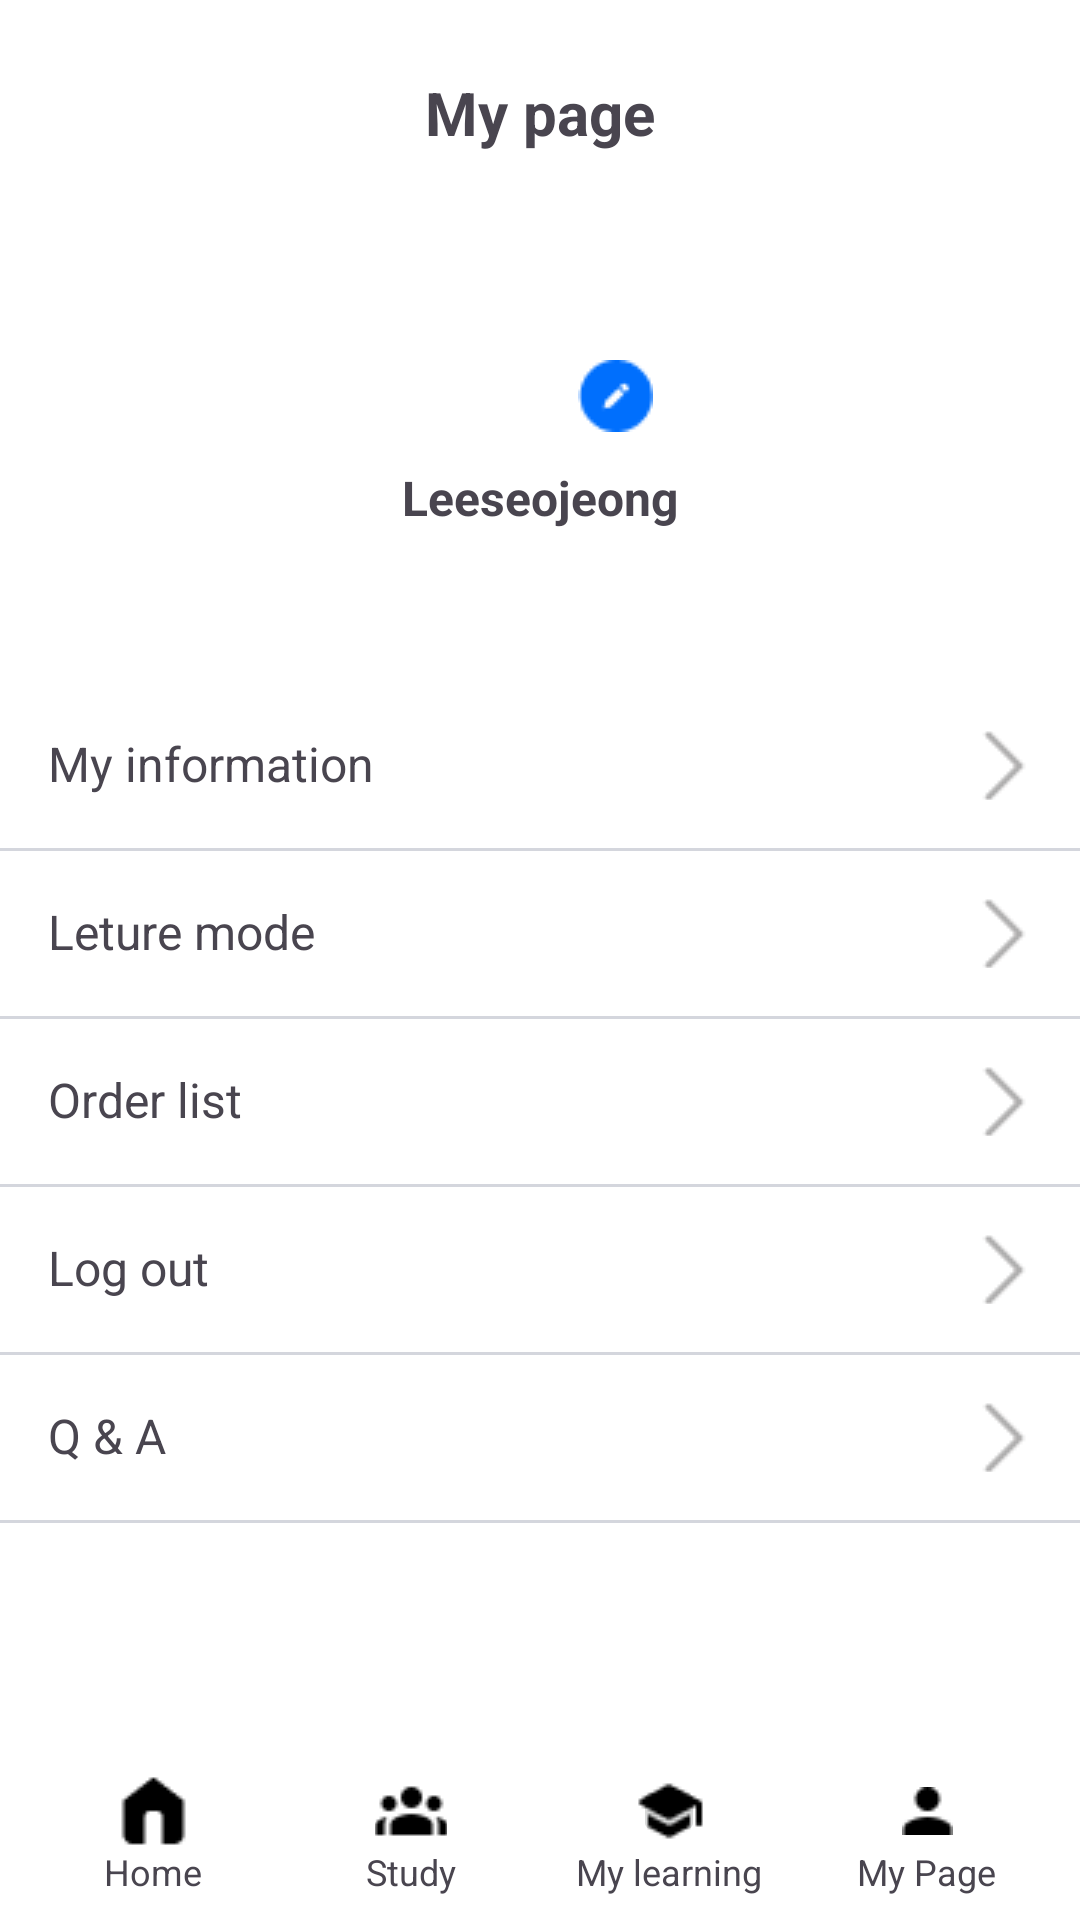

Where to tap for icons on this 1080*1920 app screen, as point (x, y):
edit: point (615, 396)
right errow: point (1004, 766), point (1004, 934), point (1004, 1102), point (1004, 1270), point (1004, 1438)
